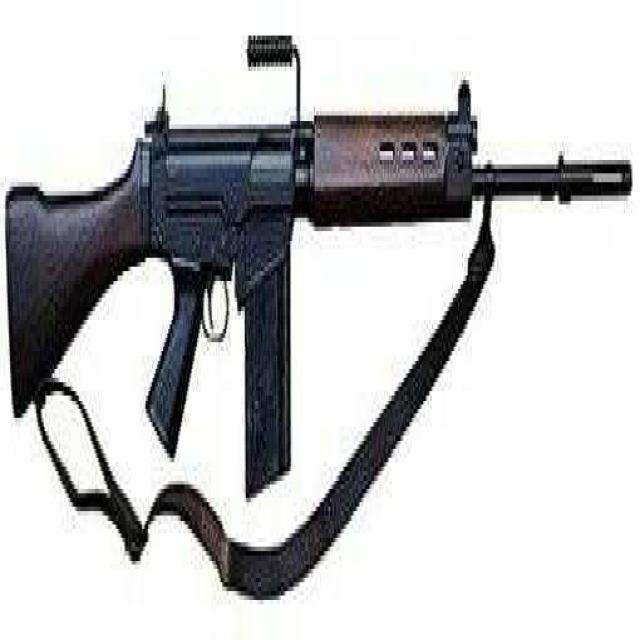heavyweapon: (6, 50, 637, 552)
